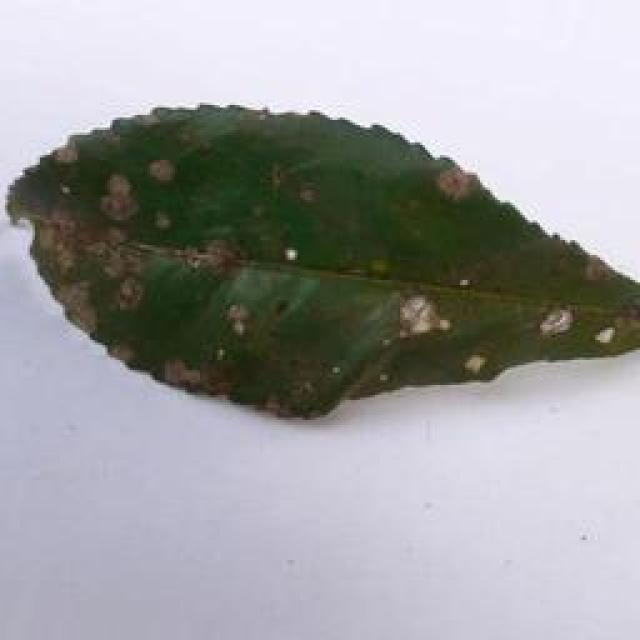Algal Leaf Spot: (15, 95, 640, 423)
